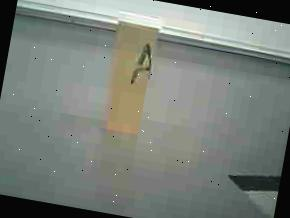Bottle A: (89, 2, 175, 150)
